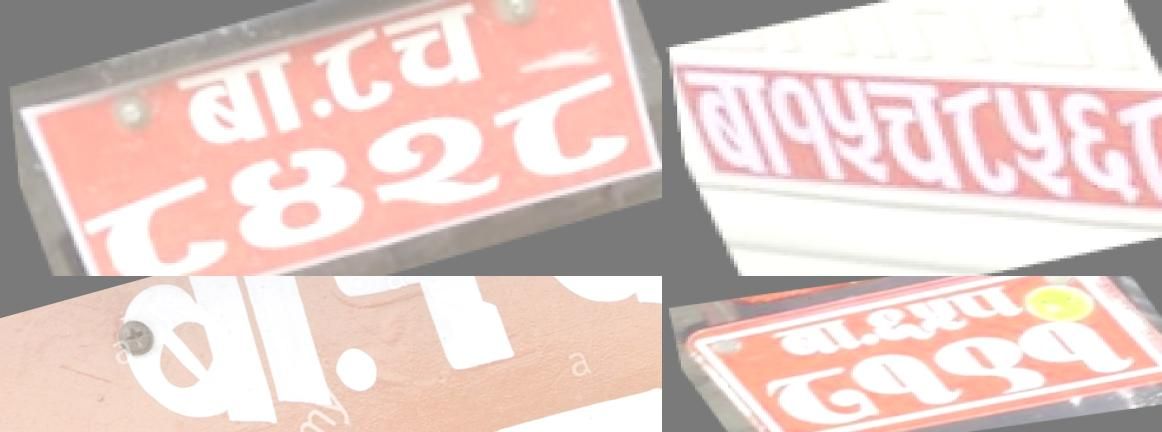1: (301, 276, 537, 412), (749, 69, 850, 189), (1001, 314, 1142, 380), (831, 346, 960, 414)
2: (342, 93, 514, 231)
4: (205, 128, 376, 263)
5: (974, 78, 1082, 201), (799, 72, 895, 186), (900, 296, 973, 334)
6: (1035, 84, 1144, 207), (853, 304, 926, 344)
8: (476, 60, 646, 195), (62, 164, 240, 276), (296, 20, 404, 126), (927, 85, 1024, 200), (748, 366, 879, 427), (1104, 94, 1162, 211)
9: (914, 331, 1051, 398)
ba: (81, 276, 374, 432), (162, 40, 316, 160), (668, 53, 801, 191), (760, 320, 861, 359)
cha: (470, 276, 662, 369), (850, 69, 970, 201), (372, 0, 508, 104)
pa: (941, 284, 1027, 322)
